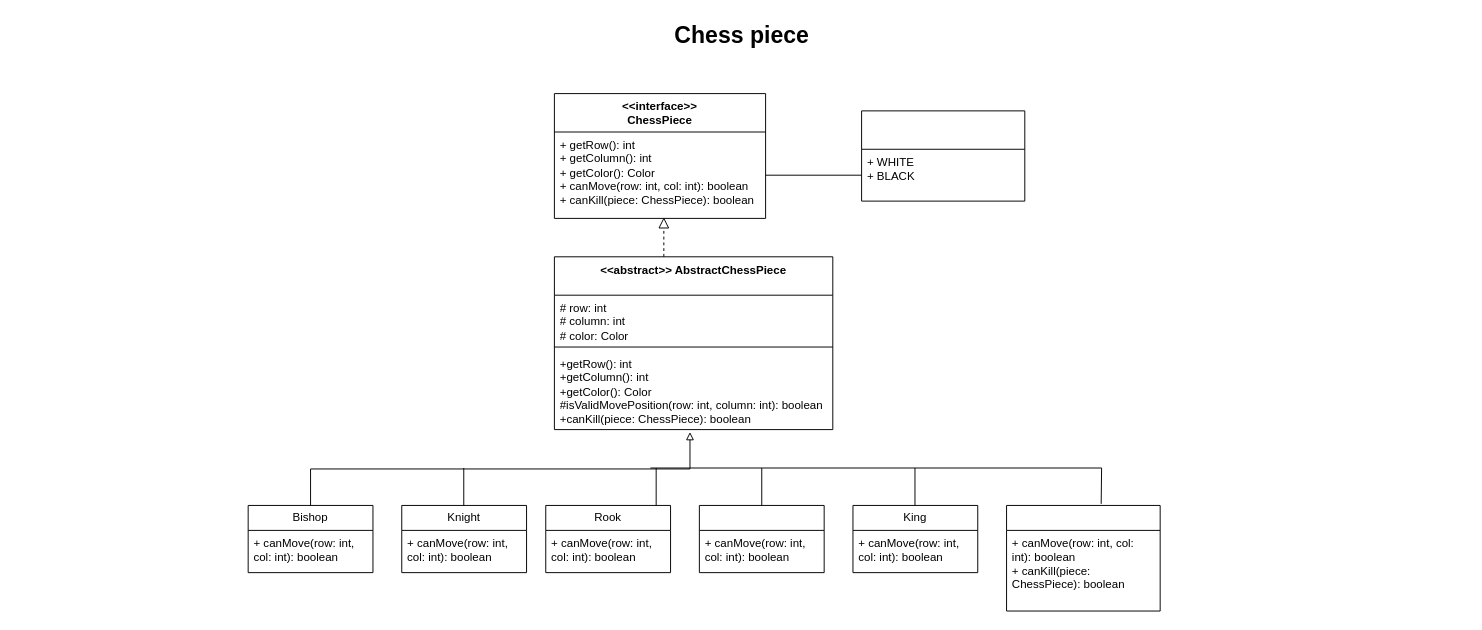
This 1482x630 diagram has some shape labels left out. The box of each missing label's shape, as (x1, y1, x2, y2) in pixels:
<<enumeration>> Color: (861, 110, 1025, 201)
Pawn: (1006, 504, 1160, 611)
Queen: (698, 504, 824, 573)
